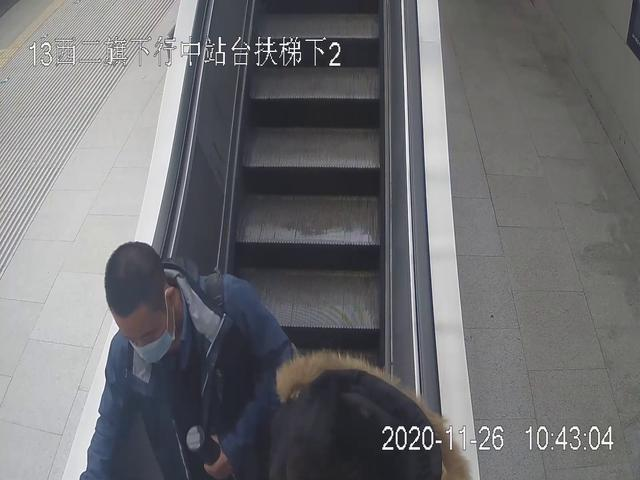person: (80, 242, 297, 480)
